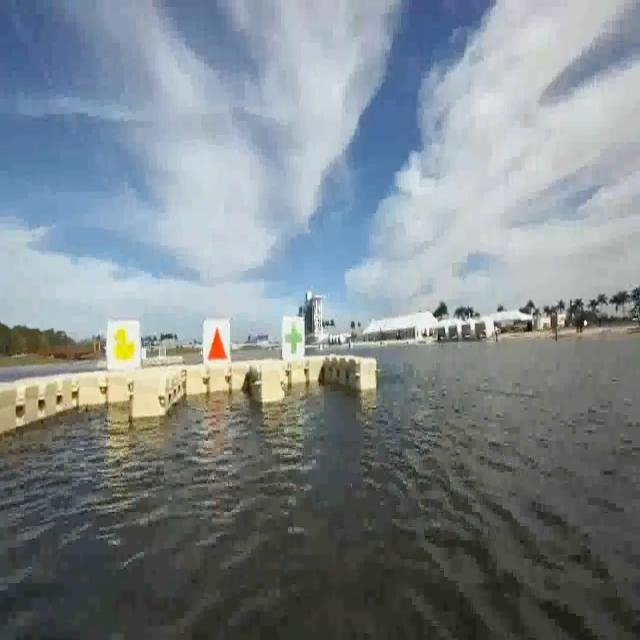blue-cross: (283, 316, 307, 356)
yellow-duck: (108, 324, 139, 369)
